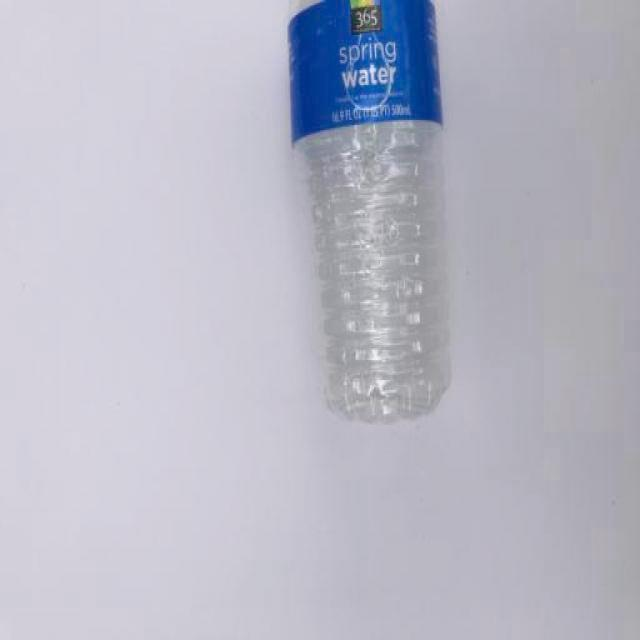bottle: (286, 0, 452, 426)
